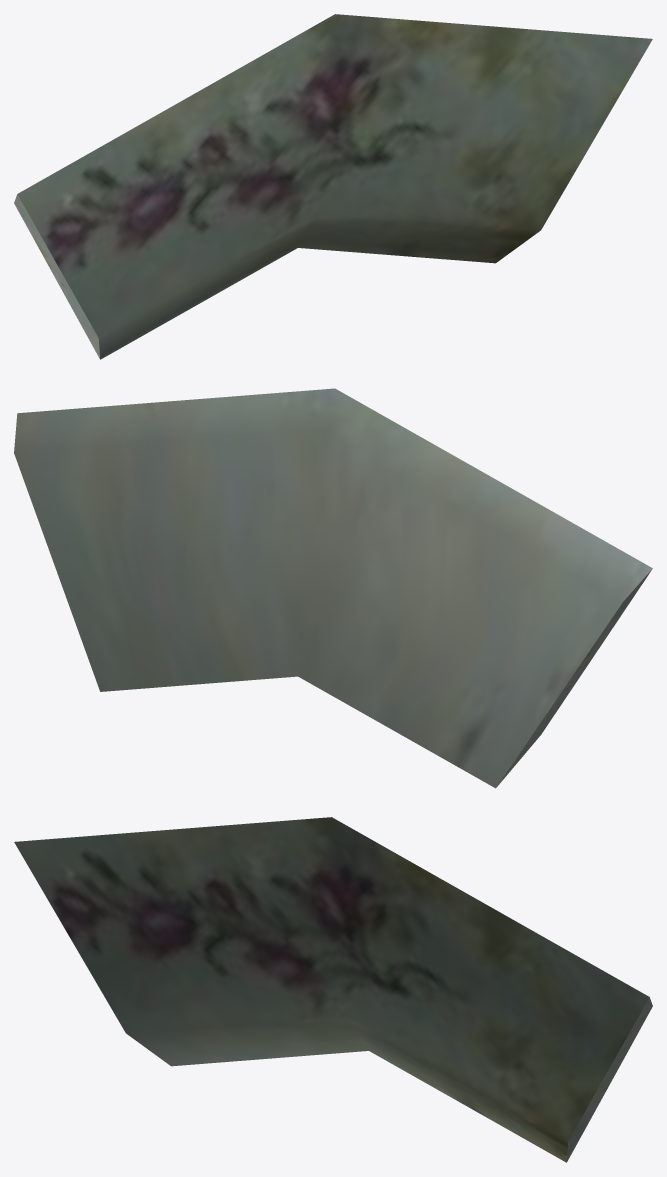
The model's file is prop_diningplate_brokenfloral1.glb.
3 views of the same model, one above another, from view 1: azimuth 30°, elevation 25°; view 2: azimuth 150°, elevation 25°; view 3: azimuth 330°, elevation 25° (orthographic).
Size of the model in its own units: 6.42 by 3.13 by 0.6492.
Materials: 1 (1 with a texture image).
